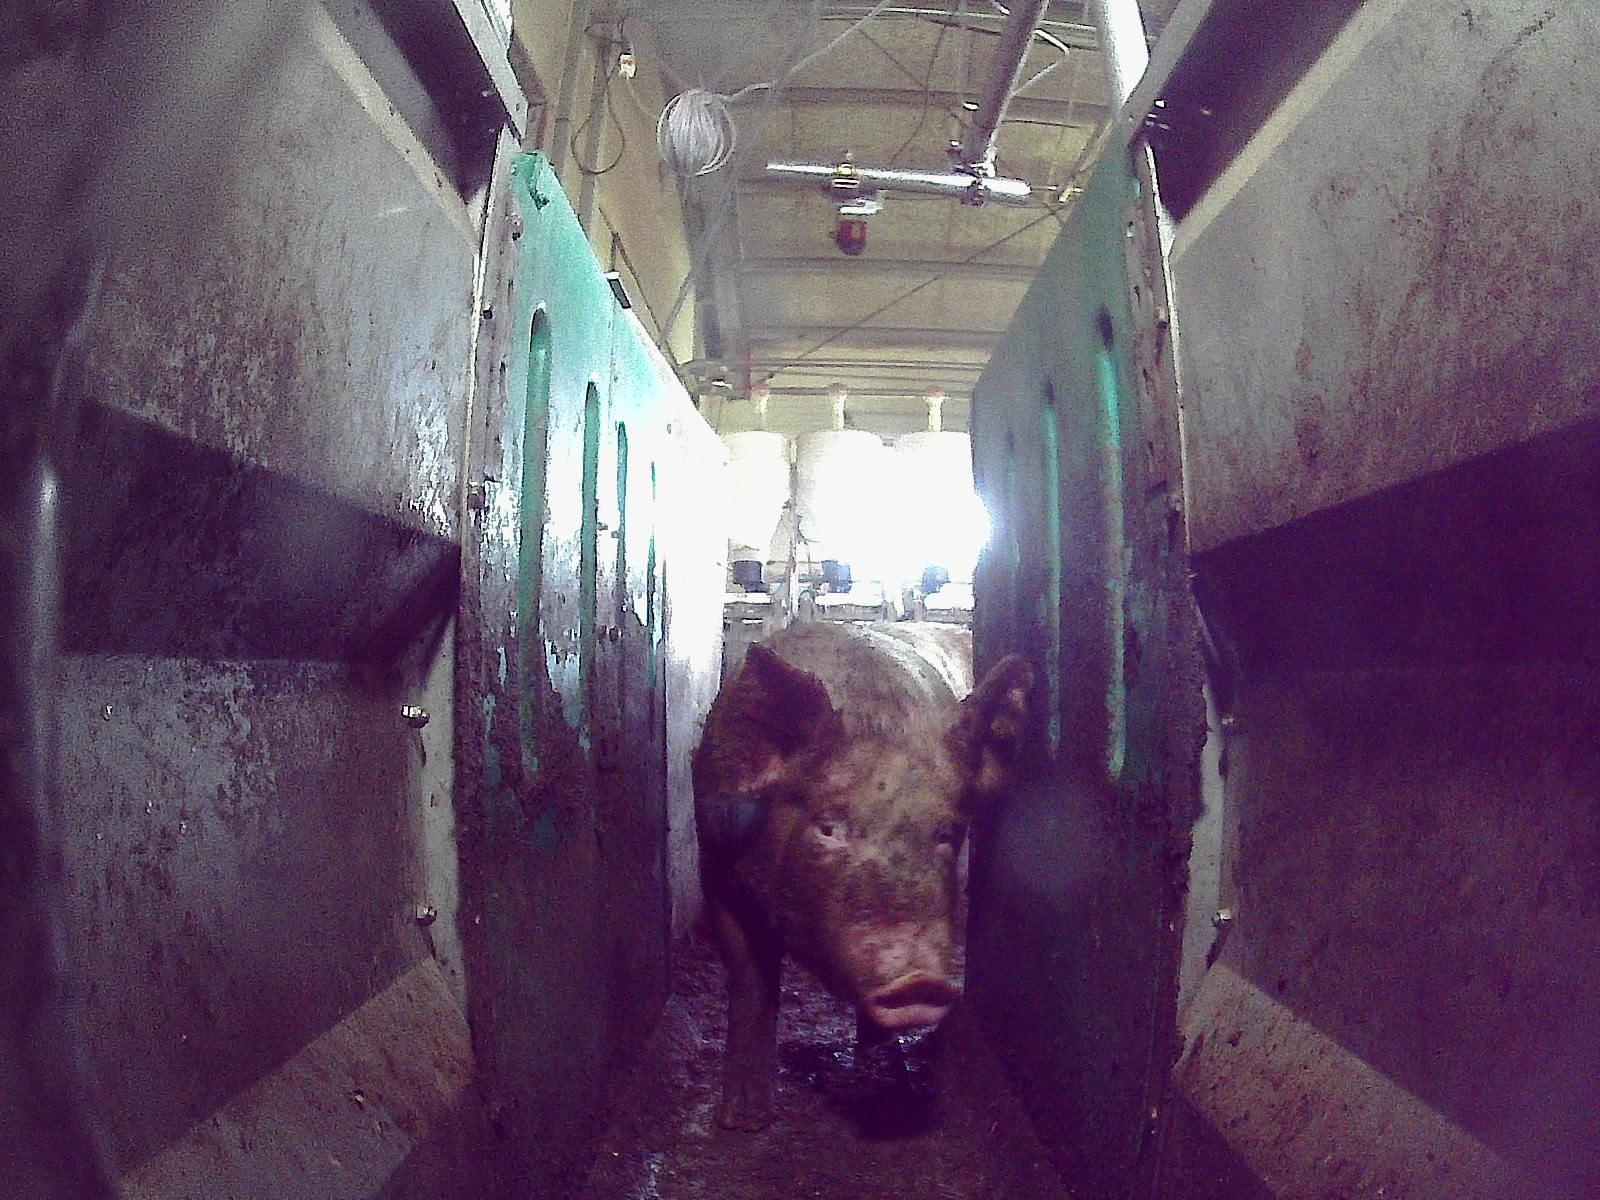Face: (769, 734, 958, 1033)
